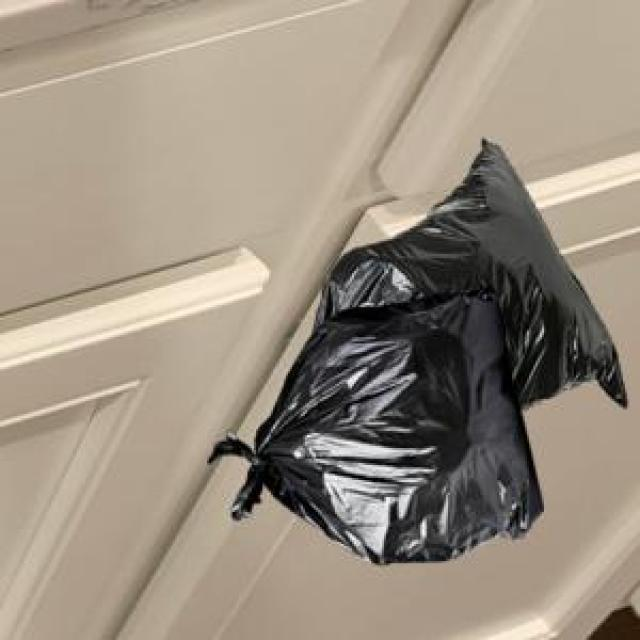Trashbag: (258, 289, 548, 574)
